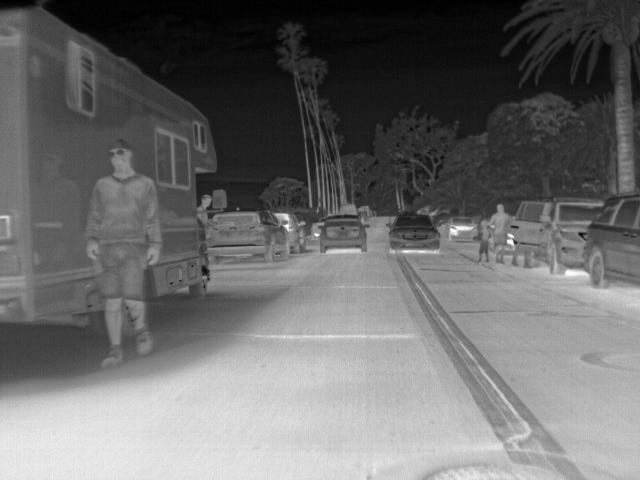car: (512, 196, 607, 276), (583, 195, 640, 291), (218, 209, 290, 264), (388, 211, 440, 251), (320, 213, 368, 254), (274, 213, 307, 255), (442, 214, 478, 242), (310, 218, 323, 236)
person: (86, 136, 163, 372), (491, 200, 511, 264), (197, 190, 215, 241), (476, 218, 494, 264)
